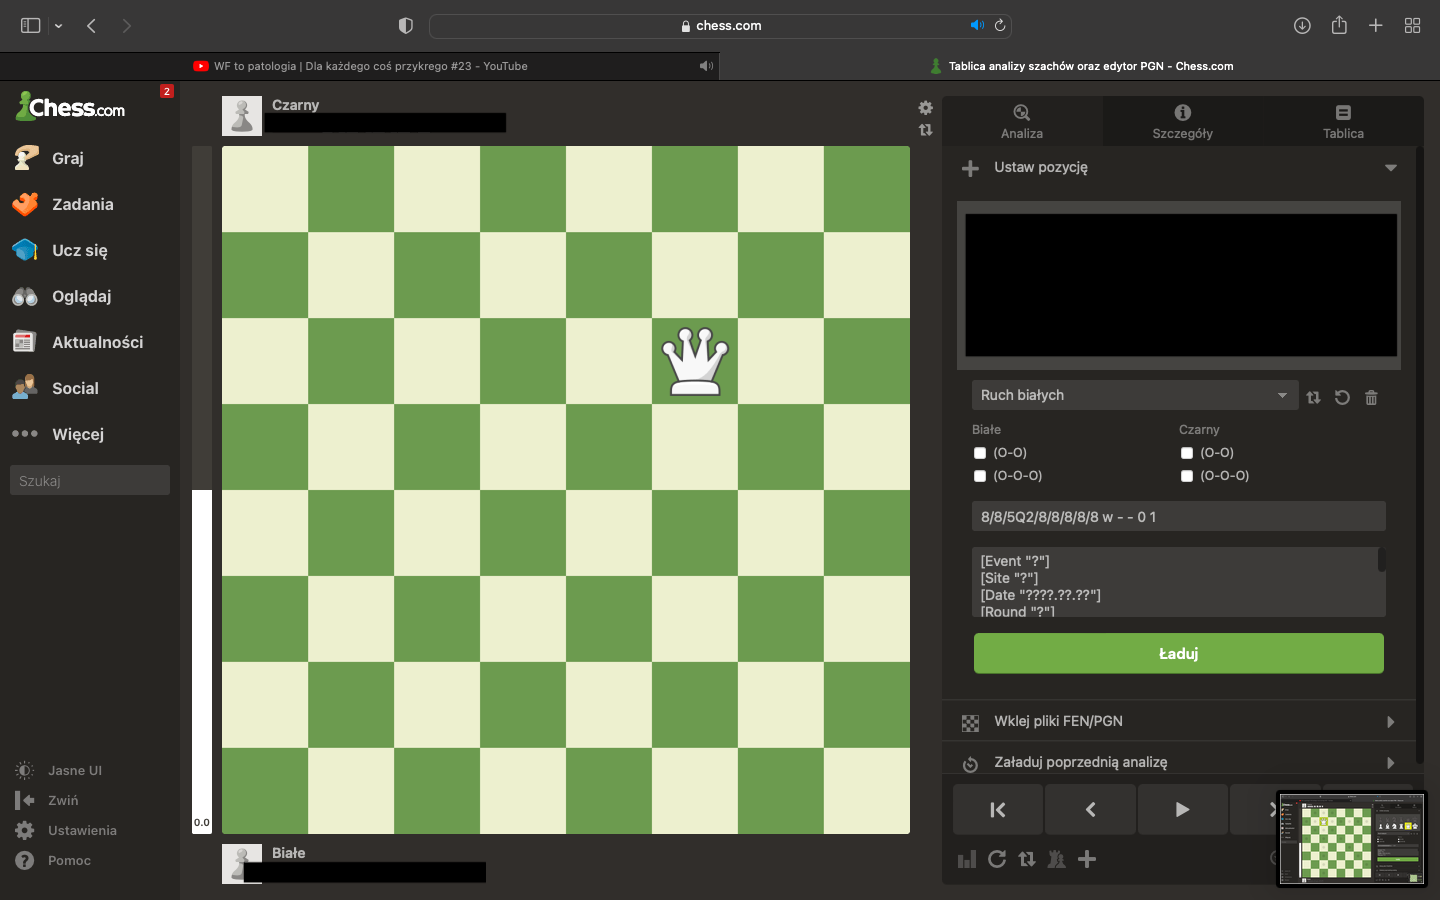white_queen: (661, 326, 731, 397)
